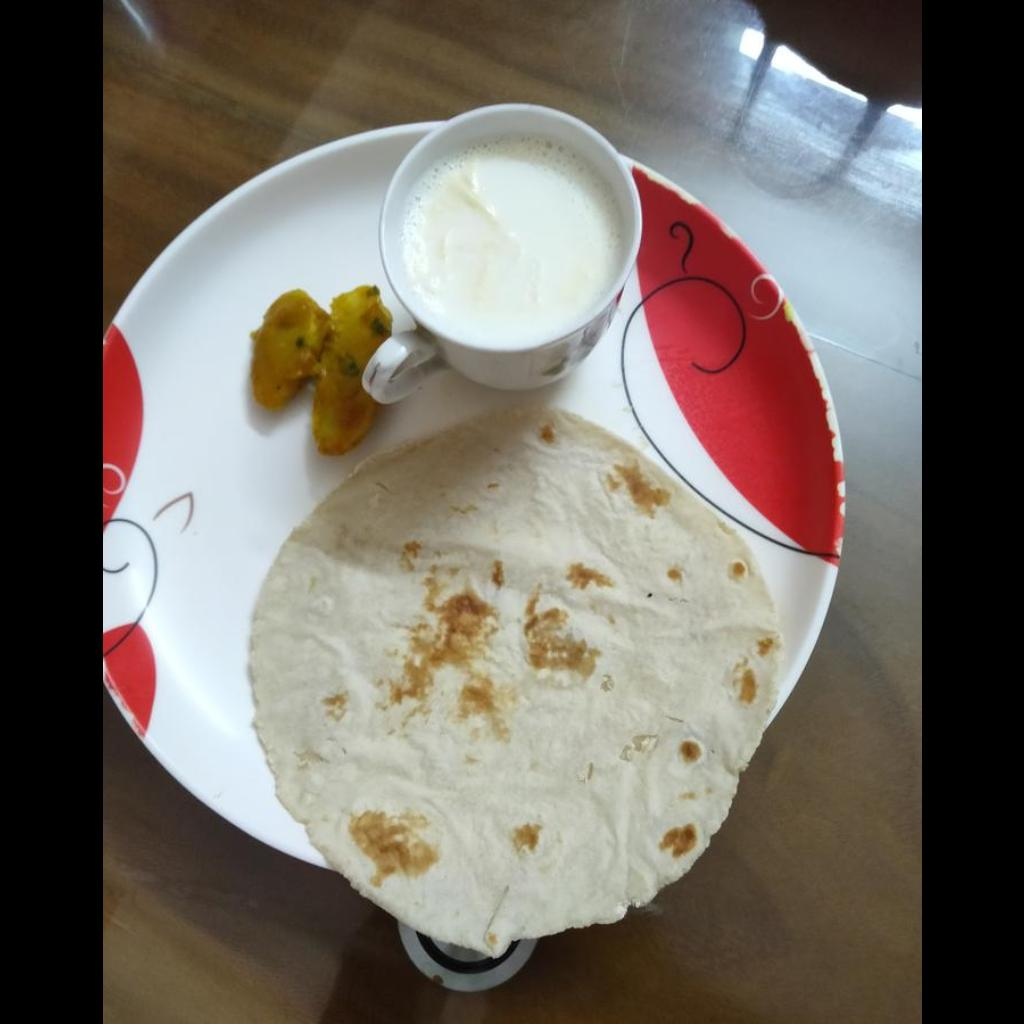milk: (398, 137, 620, 338)
potato: (249, 288, 390, 455)
ruti: (241, 404, 782, 953)
